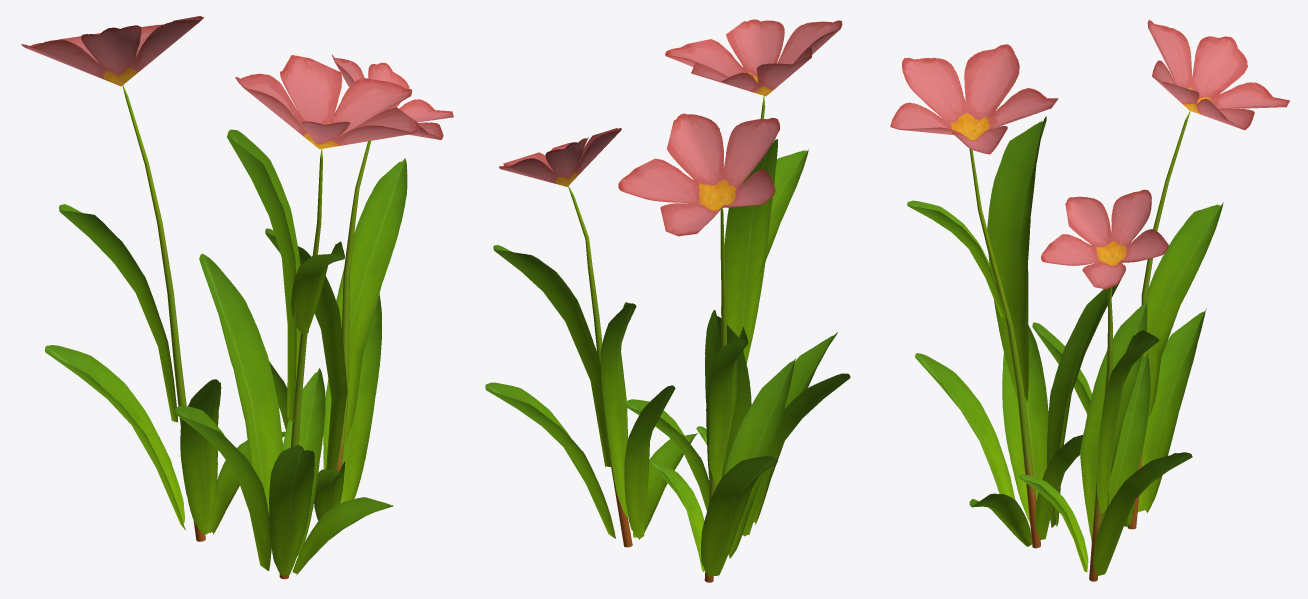
Rendered from Flower_3_Group.gltf.
The picture shows the model from 3 angles, left to right: view 1: azimuth 30°, elevation 25°; view 2: azimuth 150°, elevation 25°; view 3: azimuth 270°, elevation 25°; orthographic projection. The views are drawn at different scales.
Visible parts, largest first — view 1: Flower_3_Group; view 2: Flower_3_Group; view 3: Flower_3_Group.
Boxes of the visible parts, bbox=[...] form: Flower_3_Group: bbox=[21, 16, 453, 579]; Flower_3_Group: bbox=[485, 19, 850, 582]; Flower_3_Group: bbox=[890, 20, 1289, 581].
Bounding box in the file's own units: 1.49 × 2.05 × 1.59.
Materials: 2 (2 with a texture image).
